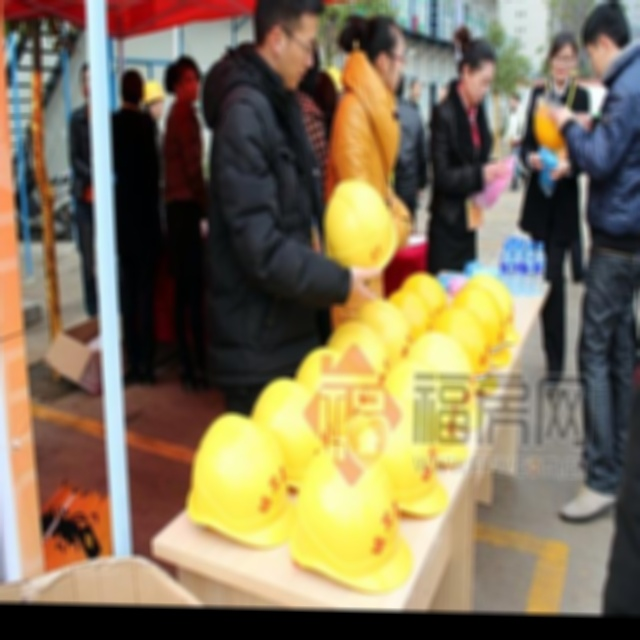Con_Casco: (324, 178, 399, 277)
Sin_Casco_Mascarrilla: (253, 0, 324, 86), (357, 9, 406, 94), (459, 36, 498, 100), (164, 55, 204, 103), (548, 30, 577, 84), (119, 66, 145, 109)
